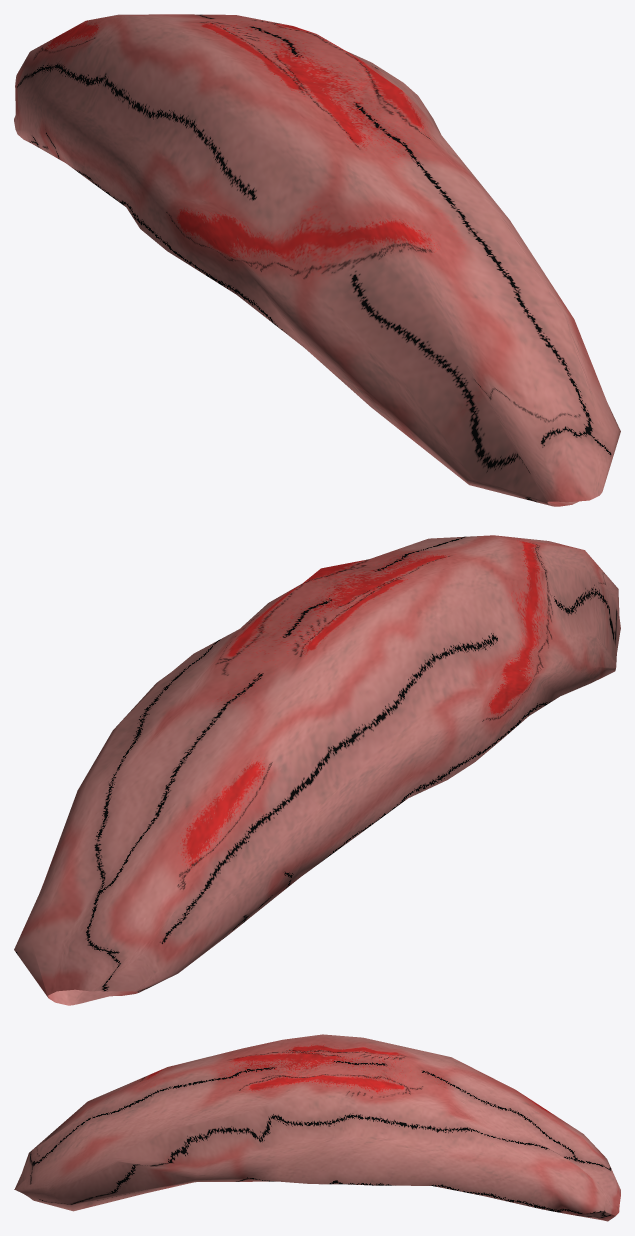
File: RANA 1.fbx
The picture shows the model from 3 angles, top to bottom: view 1: azimuth 30°, elevation 25°; view 2: azimuth 150°, elevation 25°; view 3: azimuth 270°, elevation 25°; orthographic projection. The views are drawn at different scales.
Parts seen in each view (by area): view 1: Cylinder; view 2: Cylinder; view 3: Cylinder.
Part boxes in pixels (bbox=[...]): Cylinder: bbox=[14, 14, 620, 506]; Cylinder: bbox=[14, 535, 620, 1005]; Cylinder: bbox=[14, 1034, 620, 1221].
Size of the model in its own units: 812 by 720 by 2521.
Materials: 1 (1 with a texture image).
